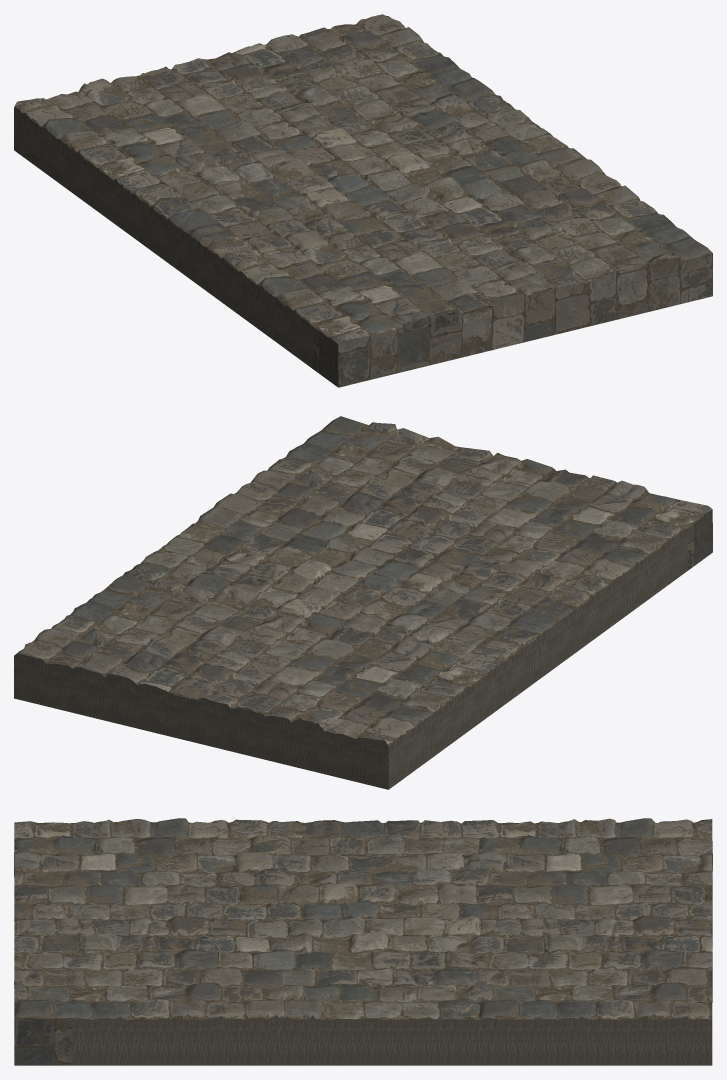
File: SM_Walkway_4x6_01.fbx
3 views of the same model, one above another, from view 1: azimuth 30°, elevation 25°; view 2: azimuth 150°, elevation 25°; view 3: azimuth 270°, elevation 25° (orthographic). The views are drawn at different scales.
Parts seen in each view (by area): view 1: SM_Walkway_4x6_01_LOD0; view 2: SM_Walkway_4x6_01_LOD0; view 3: SM_Walkway_4x6_01_LOD0.
Part boxes in pixels (<box>): SM_Walkway_4x6_01_LOD0: <box>14,14,712,387</box>; SM_Walkway_4x6_01_LOD0: <box>14,416,712,789</box>; SM_Walkway_4x6_01_LOD0: <box>14,818,712,1065</box>.
Size of the model in its own units: 401 by 601 by 53.47.
